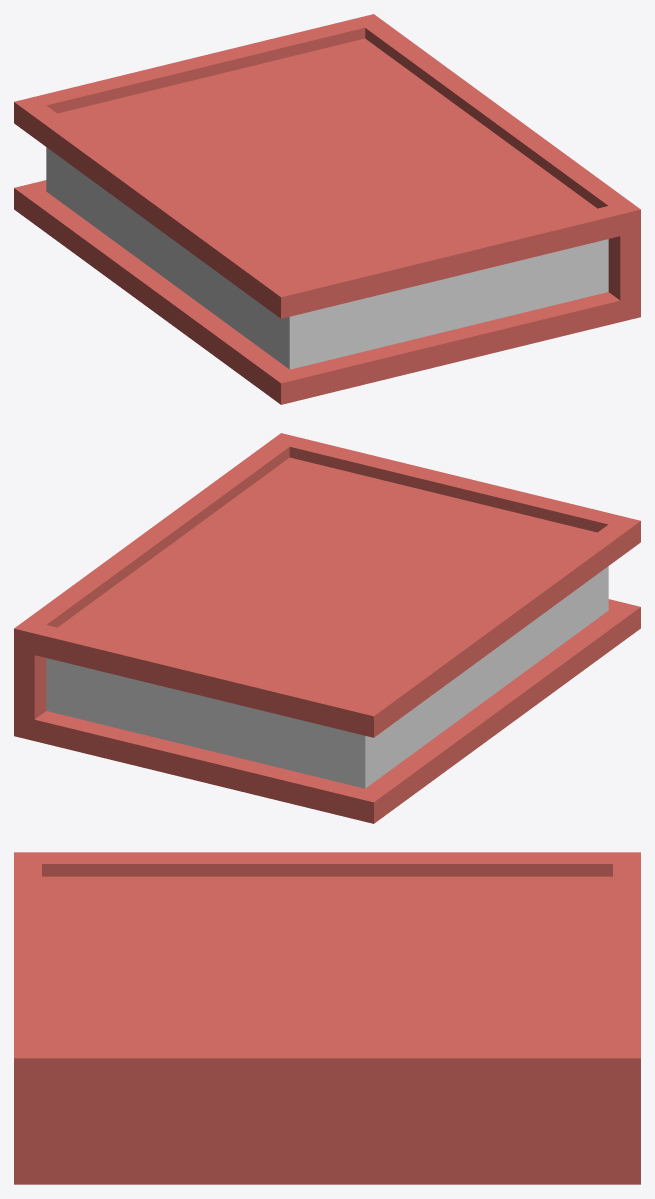
File: book.fbx
3 renders of one model, top to bottom at view 1: azimuth 30°, elevation 25°; view 2: azimuth 150°, elevation 25°; view 3: azimuth 270°, elevation 25°, orthographic. The views are drawn at different scales.
Parts seen in each view (by area): view 1: book; view 2: book; view 3: book.
Boxes of the visible parts, x1=… form: book: x1=14, y1=14, x2=640, y2=404; book: x1=14, y1=433, x2=640, y2=823; book: x1=14, y1=852, x2=640, y2=1184.
Bounding box in the file's own units: 350 × 100 × 450.
